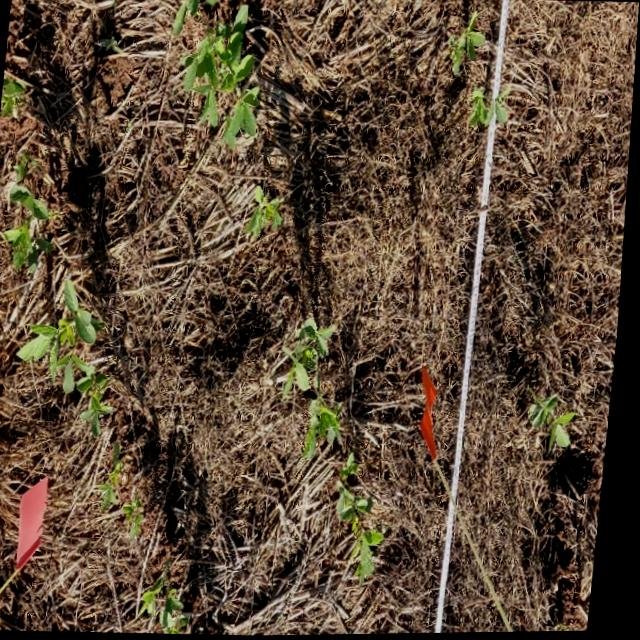soy_plant: (21, 281, 116, 435), (184, 6, 261, 148), (289, 320, 345, 459), (5, 155, 56, 271), (345, 488, 390, 583), (146, 572, 197, 634), (248, 186, 286, 239), (536, 401, 578, 448), (173, 0, 221, 33), (108, 445, 129, 510), (450, 30, 484, 69), (472, 91, 507, 126), (128, 497, 152, 540), (2, 76, 27, 116)
